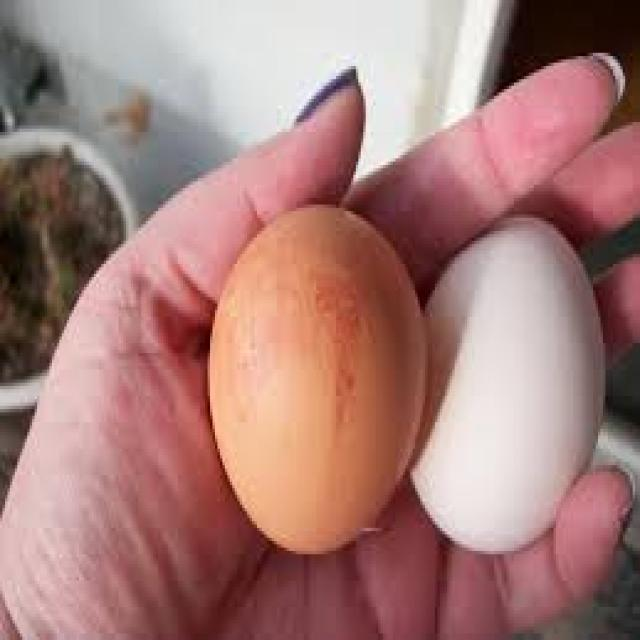Blood Stained Egg: (208, 197, 426, 559)
White Egg: (418, 205, 599, 579)
